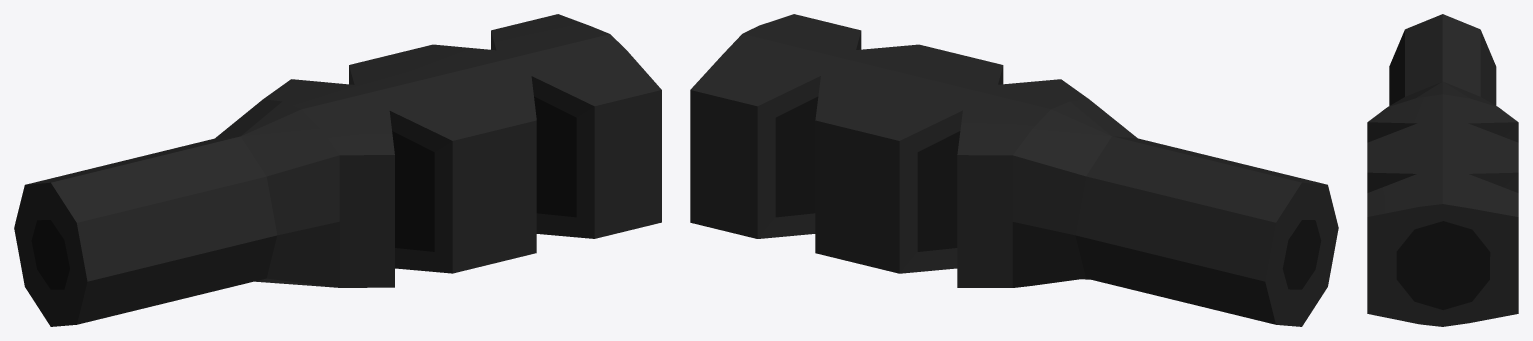
Rendered from Accesories_Sniper_muzzlebrake_V1.FBX.
The picture shows the model from 3 angles, left to right: view 1: azimuth 30°, elevation 25°; view 2: azimuth 150°, elevation 25°; view 3: azimuth 270°, elevation 25°; orthographic projection. The views are drawn at different scales.
Parts seen in each view (by area): view 1: Accesories_Sniper_muzzlebrake_V1; view 2: Accesories_Sniper_muzzlebrake_V1; view 3: Accesories_Sniper_muzzlebrake_V1.
Part boxes in pixels (<box>): Accesories_Sniper_muzzlebrake_V1: <box>14,14,661,326</box>; Accesories_Sniper_muzzlebrake_V1: <box>690,14,1338,326</box>; Accesories_Sniper_muzzlebrake_V1: <box>1367,14,1518,326</box>.
Bounding box in the file's own units: 83.37 × 24.03 × 26.77.
